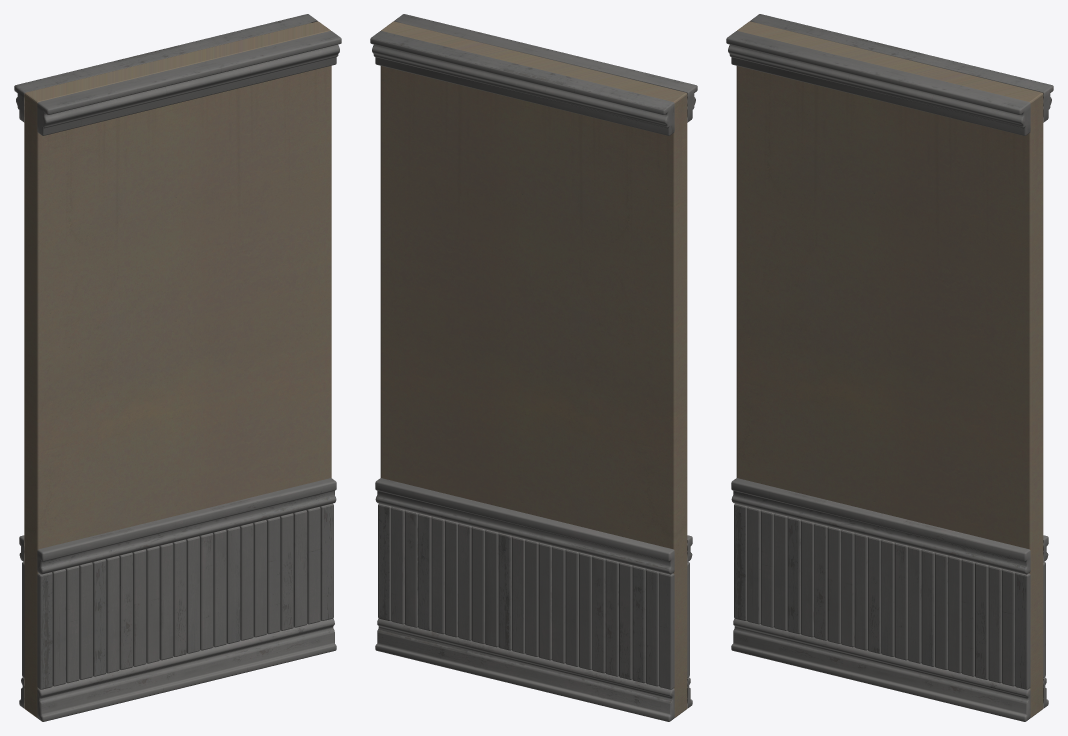
Rendered from SK4 WALL 1 INT.fbx.
3 views of the same model, side by side, from view 1: azimuth 30°, elevation 25°; view 2: azimuth 150°, elevation 25°; view 3: azimuth 330°, elevation 25° (orthographic).
Visible parts, largest first — view 1: SK4 WALL 1 INT; view 2: SK4 WALL 1 INT; view 3: SK4 WALL 1 INT.
Part boxes in pixels (x1,y1,x2,y2): SK4 WALL 1 INT: (14,14,341,721); SK4 WALL 1 INT: (370,14,697,721); SK4 WALL 1 INT: (726,14,1053,721).
Bounding box in the file's own units: 200 × 400 × 39.93.
